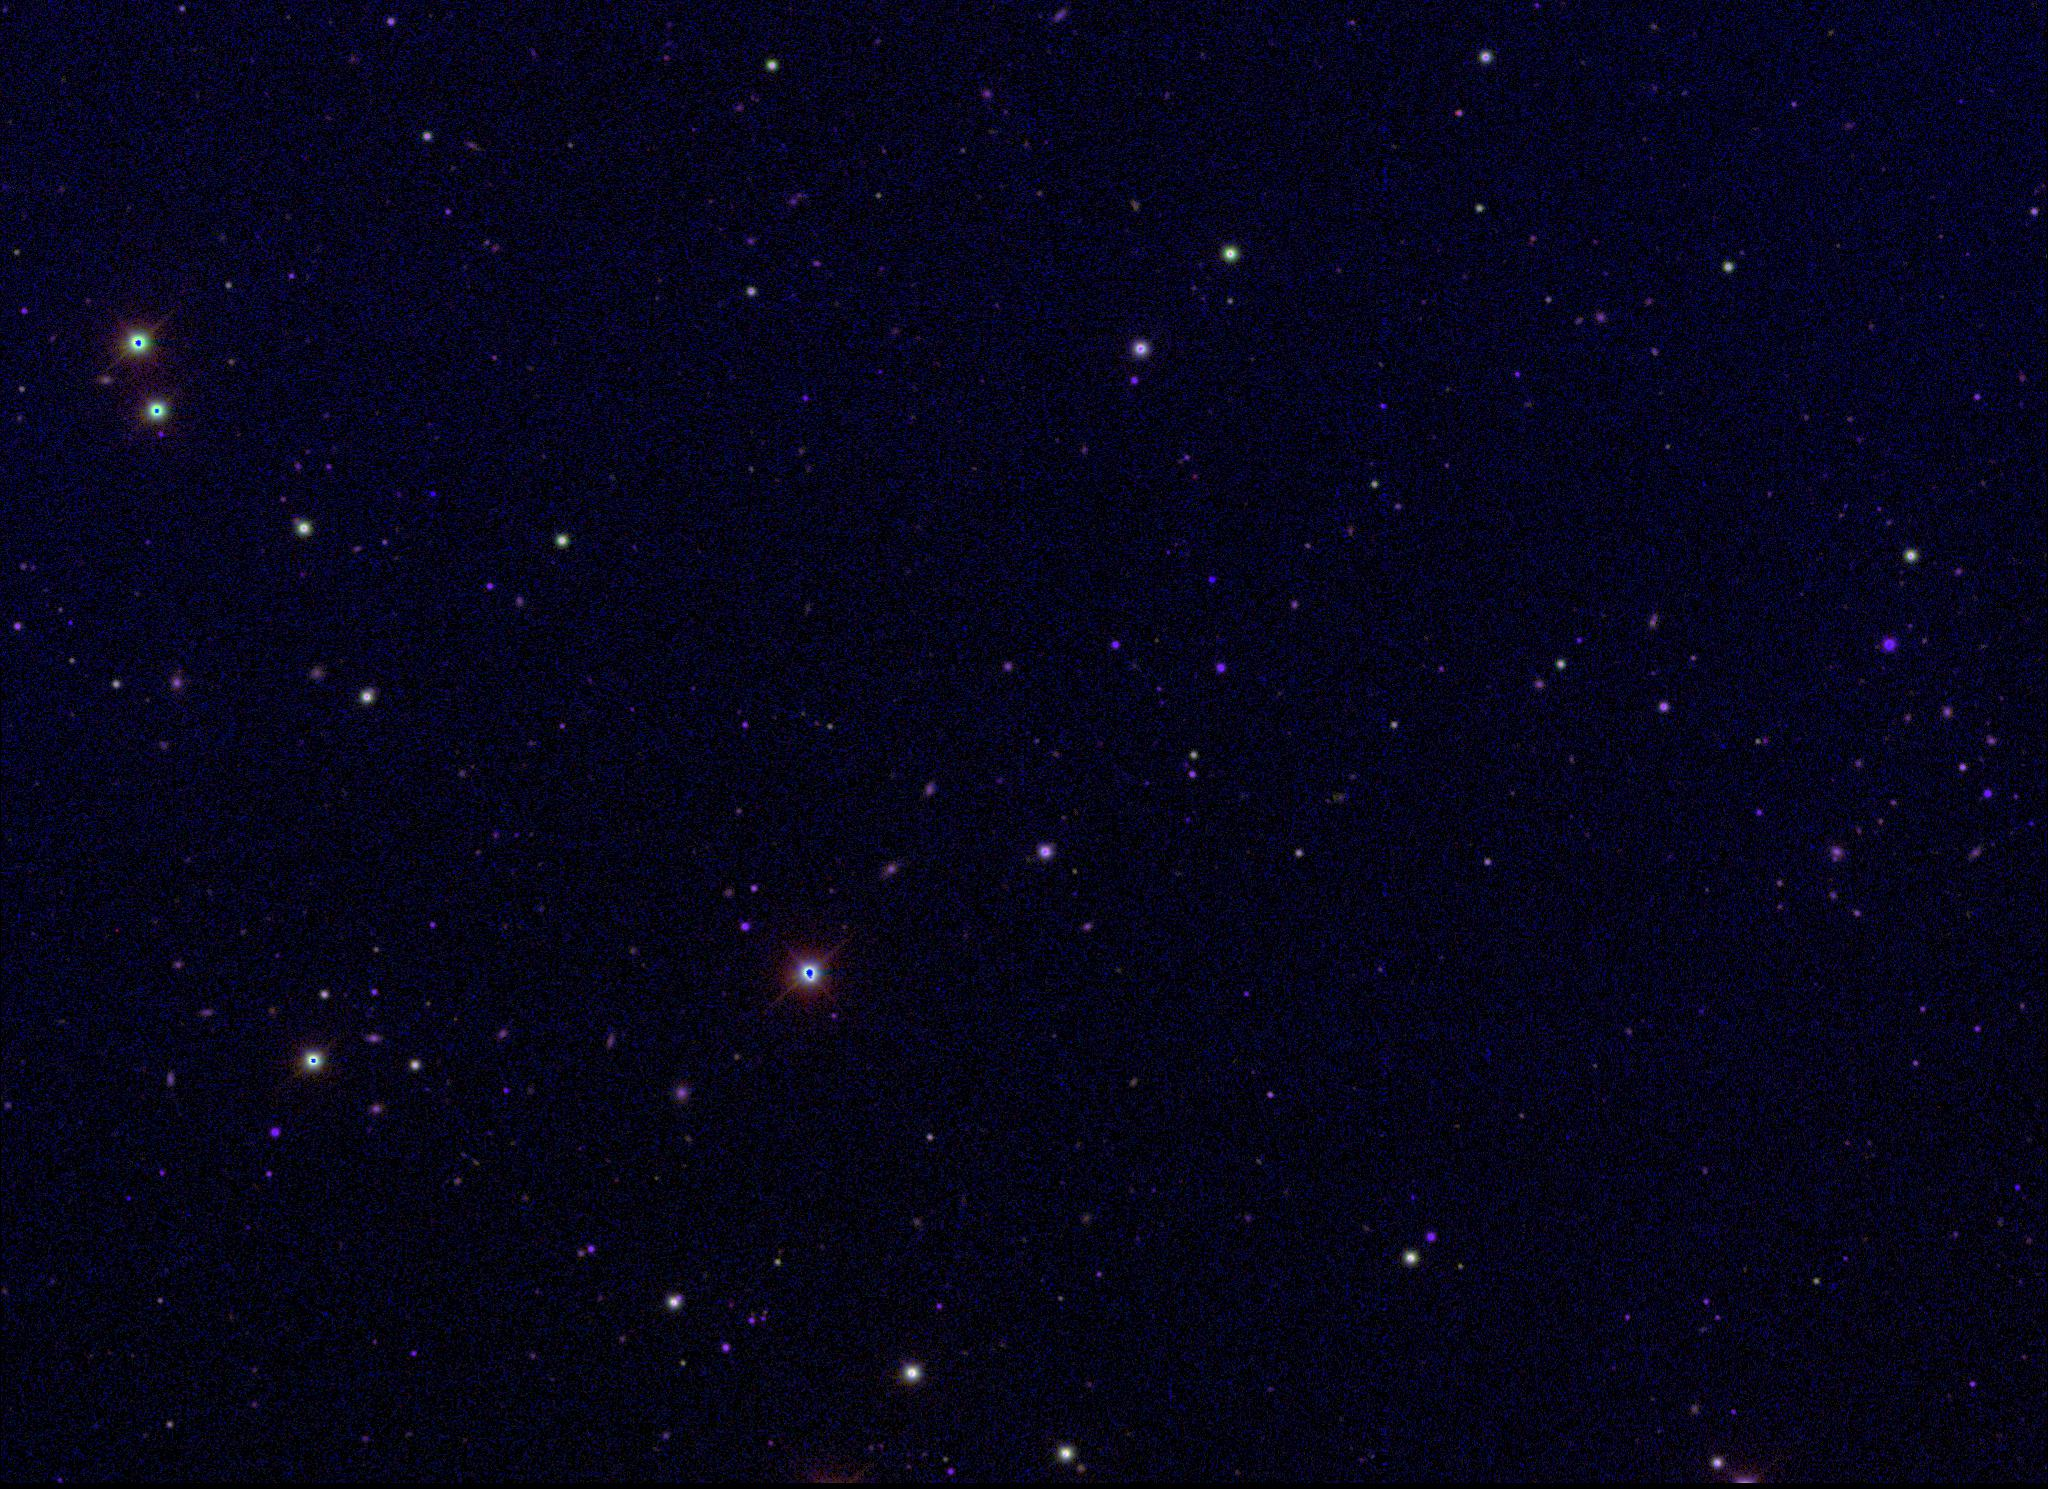L: (426, 485, 440, 500)
